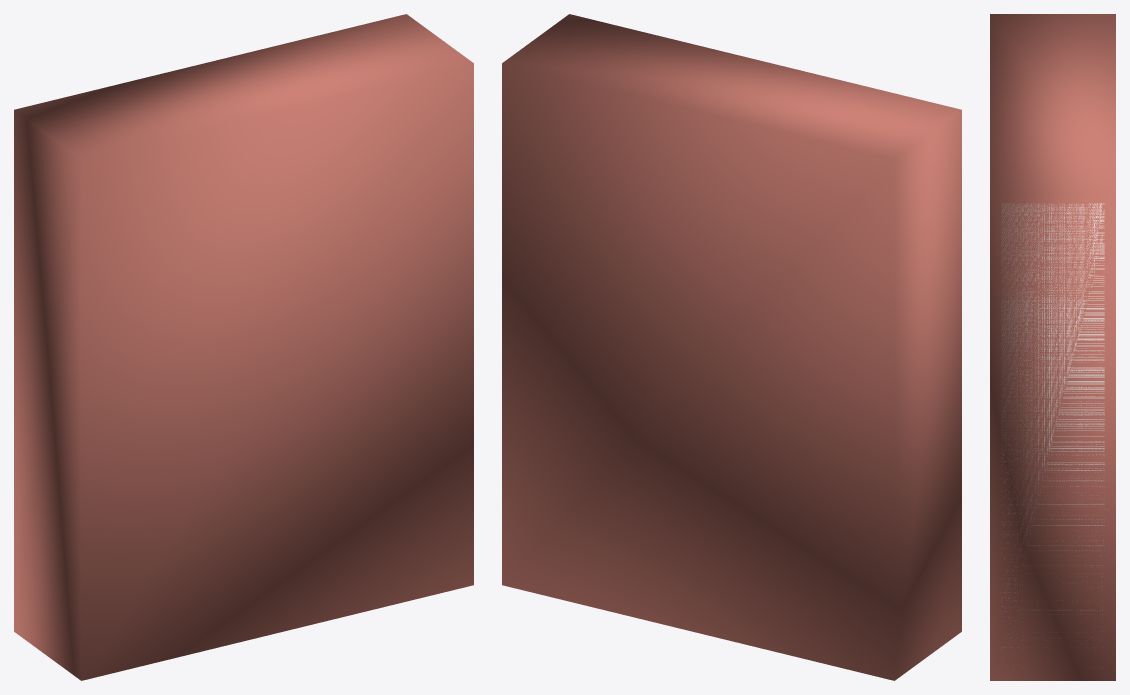
File: book.glb
3 views of the same model, side by side, from view 1: azimuth 30°, elevation 25°; view 2: azimuth 150°, elevation 25°; view 3: azimuth 270°, elevation 25° (orthographic). The views are drawn at different scales.
Visible parts, largest first — view 1: cover; view 2: cover; view 3: cover, pages.
Part boxes in pixels (bbox=[...]): cover: bbox=[14, 14, 473, 680]; cover: bbox=[502, 14, 961, 680]; cover: bbox=[990, 14, 1115, 680]; pages: bbox=[1001, 203, 1104, 658].
Bounding box in the file's own units: 0.74 × 0.94 × 0.22.
